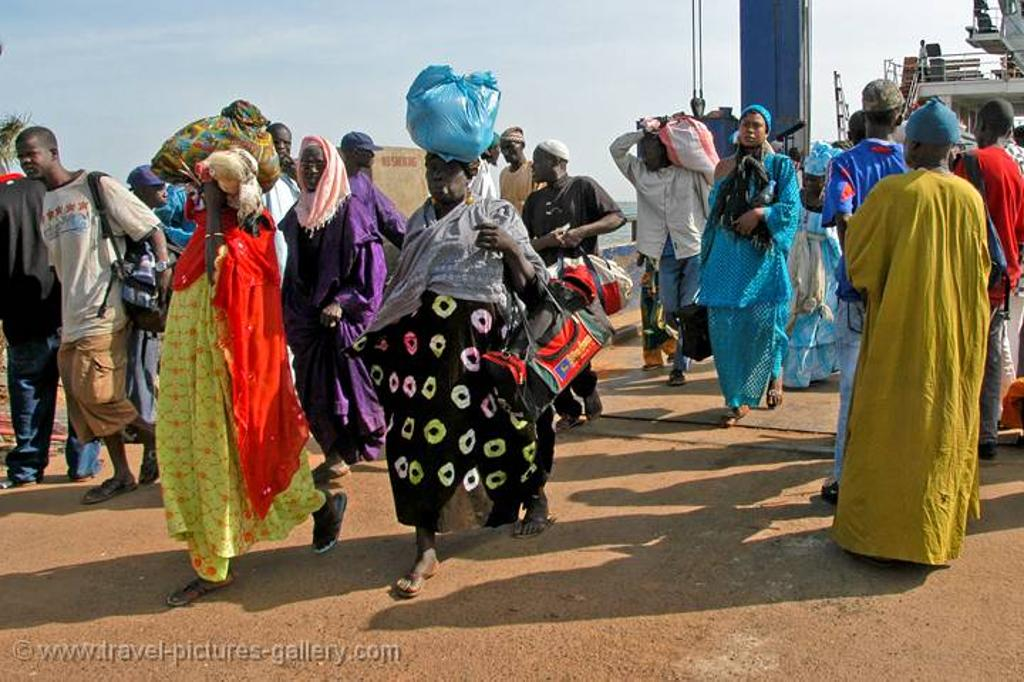face: (425, 156, 464, 199), (17, 141, 53, 178), (300, 150, 327, 190), (739, 116, 765, 146), (349, 143, 374, 173), (144, 178, 166, 208), (532, 154, 555, 182), (640, 142, 661, 170), (973, 117, 991, 147), (270, 133, 289, 160), (500, 141, 519, 162), (184, 179, 201, 201), (804, 172, 822, 192), (483, 143, 498, 163), (465, 158, 477, 175)
